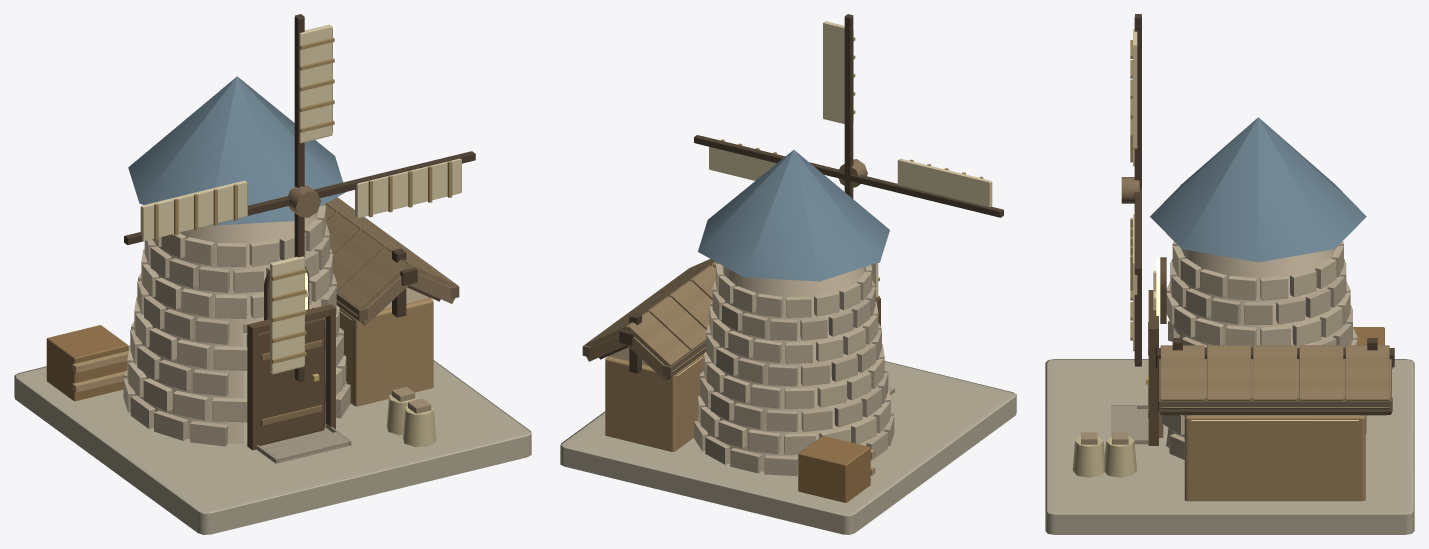
Rendered from mill-2.glb.
3 views of the same model, side by side, from view 1: azimuth 30°, elevation 25°; view 2: azimuth 150°, elevation 25°; view 3: azimuth 270°, elevation 25° (orthographic). The views are drawn at different scales.
Visible parts, largest first — view 1: mill-2-0, mill-fan, door-hinge; view 2: mill-2-0, mill-fan; view 3: mill-2-0, mill-fan.
Boxes of the visible parts, <box> form: mill-2-0: <box>14,76,531,534</box>; mill-fan: <box>124,14,475,382</box>; door-hinge: <box>258,318,324,445</box>; mill-2-0: <box>560,150,1016,534</box>; mill-fan: <box>694,14,1003,297</box>; mill-2-0: <box>1045,117,1414,534</box>; mill-fan: <box>1121,14,1141,366</box>.
Size of the model in its own units: 3.1 by 3.7 by 2.86.
